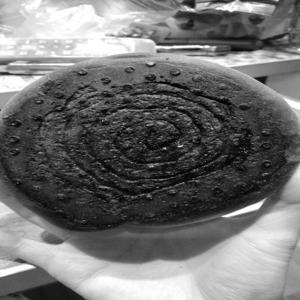bread: (1, 48, 294, 235)
